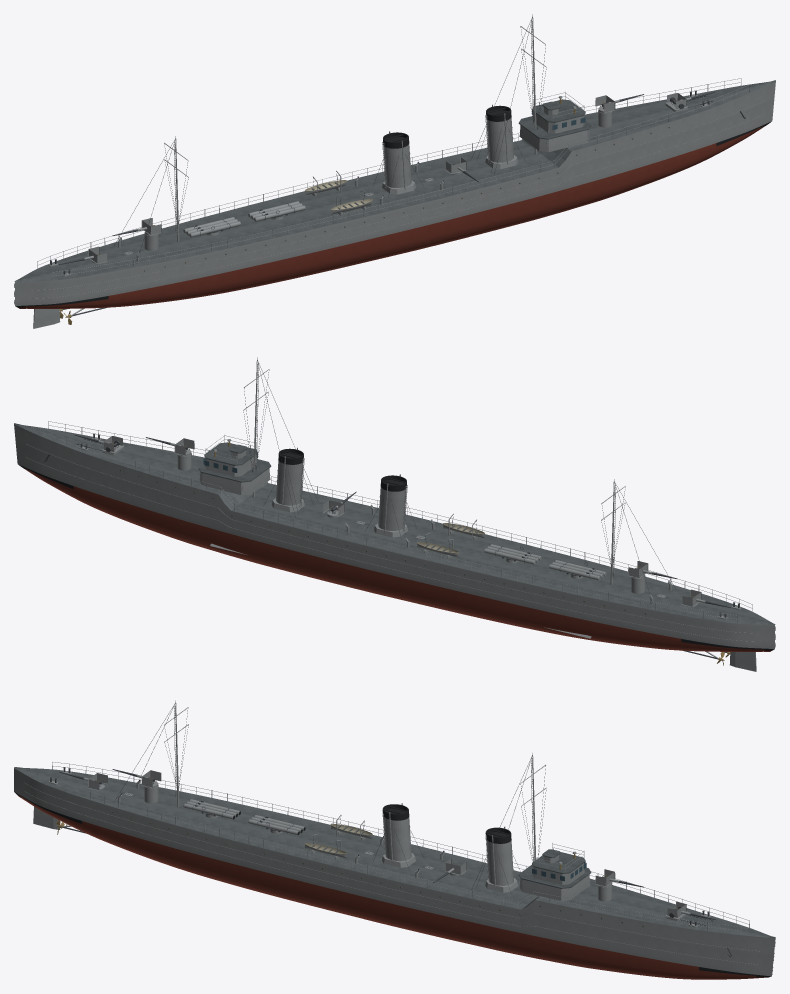
File: scott_shakespeare.glb
The picture shows the model from 3 angles, top to bottom: view 1: azimuth 30°, elevation 25°; view 2: azimuth 150°, elevation 25°; view 3: azimuth 330°, elevation 25°; orthographic projection.
Visible parts, largest first — view 1: Scott / Shakespeare flotilla leaders; view 2: Scott / Shakespeare flotilla leaders; view 3: Scott / Shakespeare flotilla leaders.
Boxes of the visible parts, x1,y1,x2,y2 form: Scott / Shakespeare flotilla leaders: (14, 14, 775, 328); Scott / Shakespeare flotilla leaders: (14, 357, 775, 671); Scott / Shakespeare flotilla leaders: (14, 700, 775, 979).
Bounding box in the file's own units: 101 × 24.81 × 10.03.
9 materials, 8 textured.
